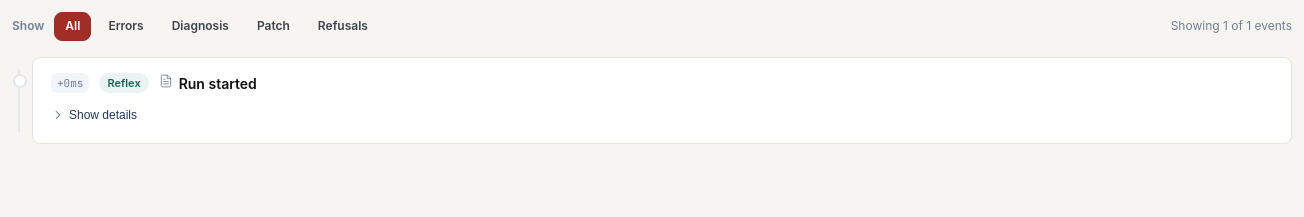
Test: EventTimeline expansion › shows "no detail recorded" for an event without data
Click the button "Show details" at (94, 115), box [51,108,137,122]
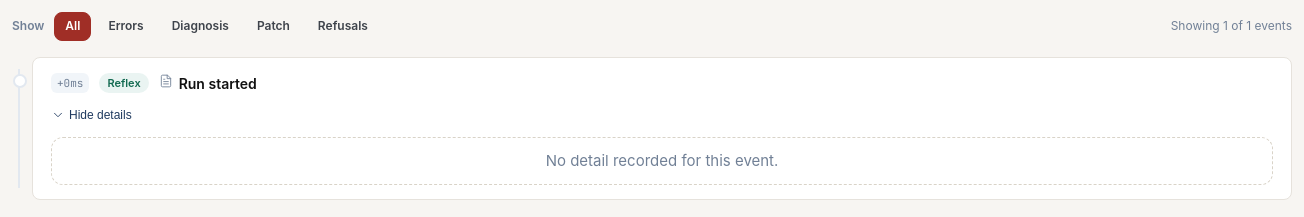
expect the text "No detail recorded for this event." is shown: met, box [51,137,1273,185]
